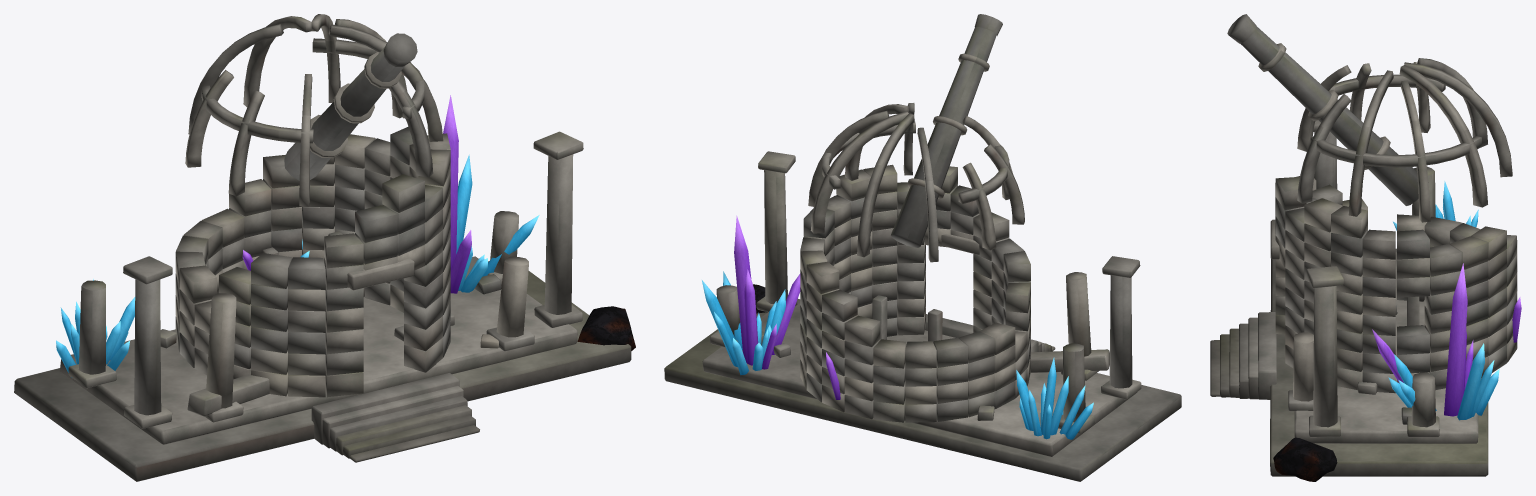
File: observatory.glb
3 renders of one model, left to right at view 1: azimuth 30°, elevation 25°; view 2: azimuth 150°, elevation 25°; view 3: azimuth 270°, elevation 25°, orthographic. The views are drawn at different scales.
Visible parts, largest first — view 1: observatory; view 2: observatory; view 3: observatory.
Boxes of the visible parts, x1,y1,x2,y2 form: observatory: (14, 14, 635, 481); observatory: (664, 14, 1181, 481); observatory: (1210, 14, 1521, 481).
Size of the model in its own units: 15.67 by 11.57 by 9.18.
4 materials, 4 textured.
